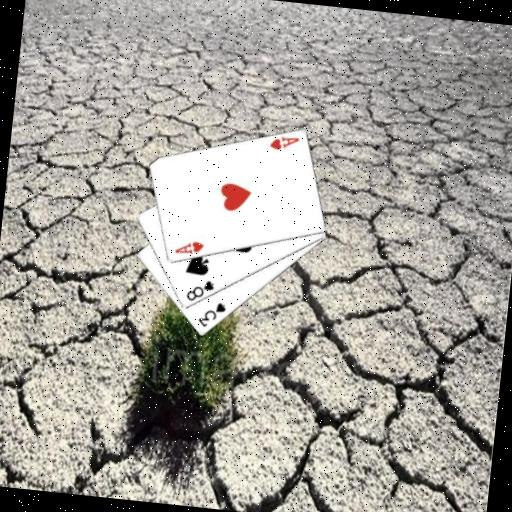3S: (194, 298, 228, 331)
8S: (183, 276, 217, 306)
AH: (267, 132, 301, 154), (171, 237, 205, 258)
